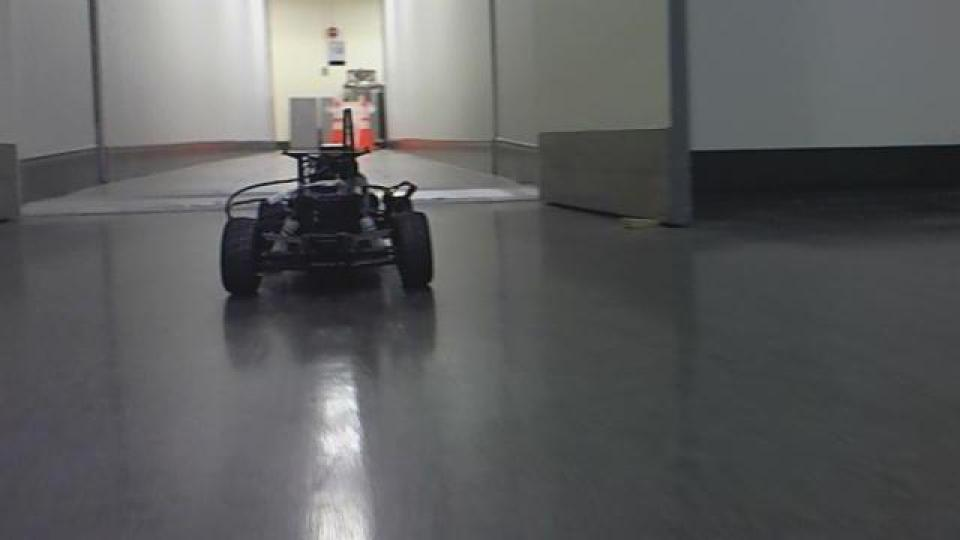car: (216, 108, 436, 300)
